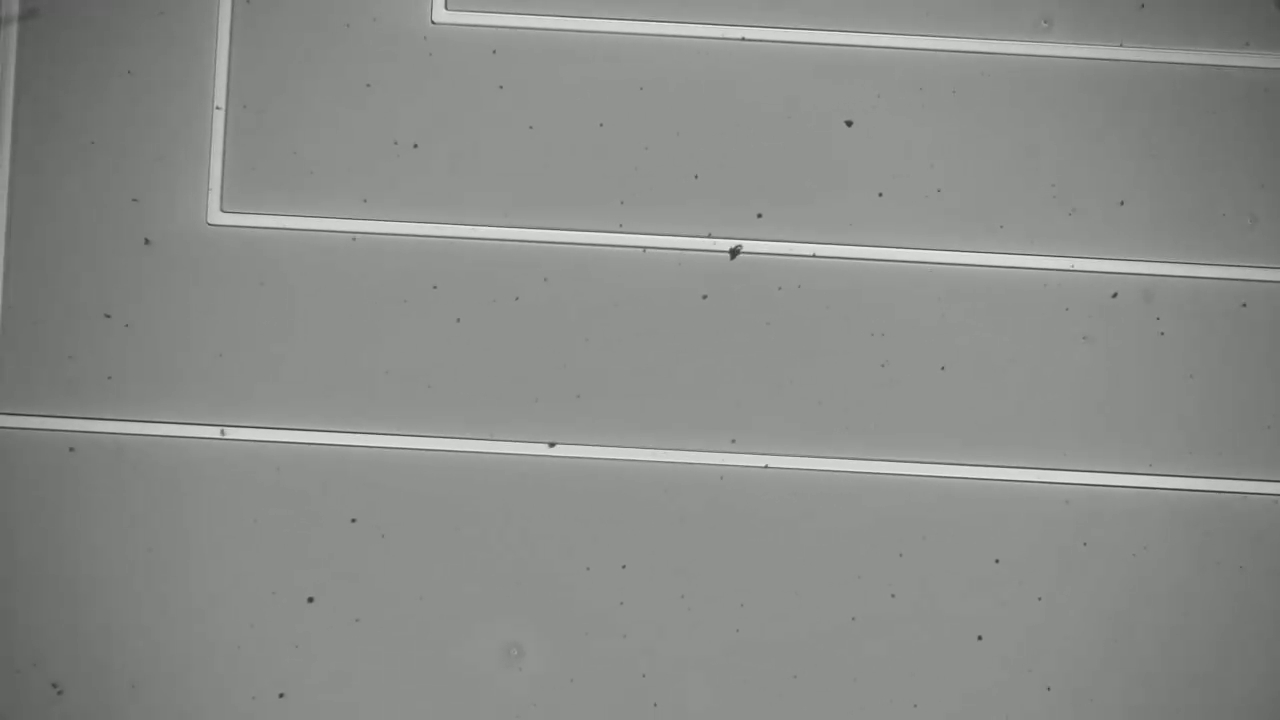stains_enbedded: (723, 229, 753, 266)
